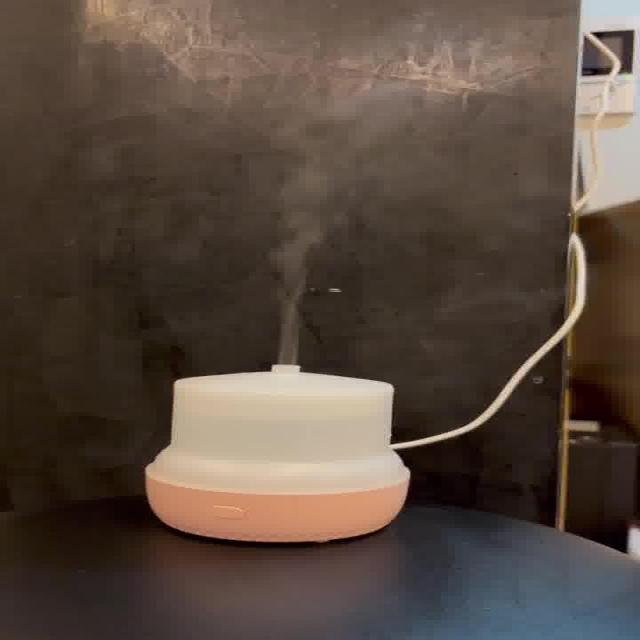fire: (256, 91, 470, 362)
